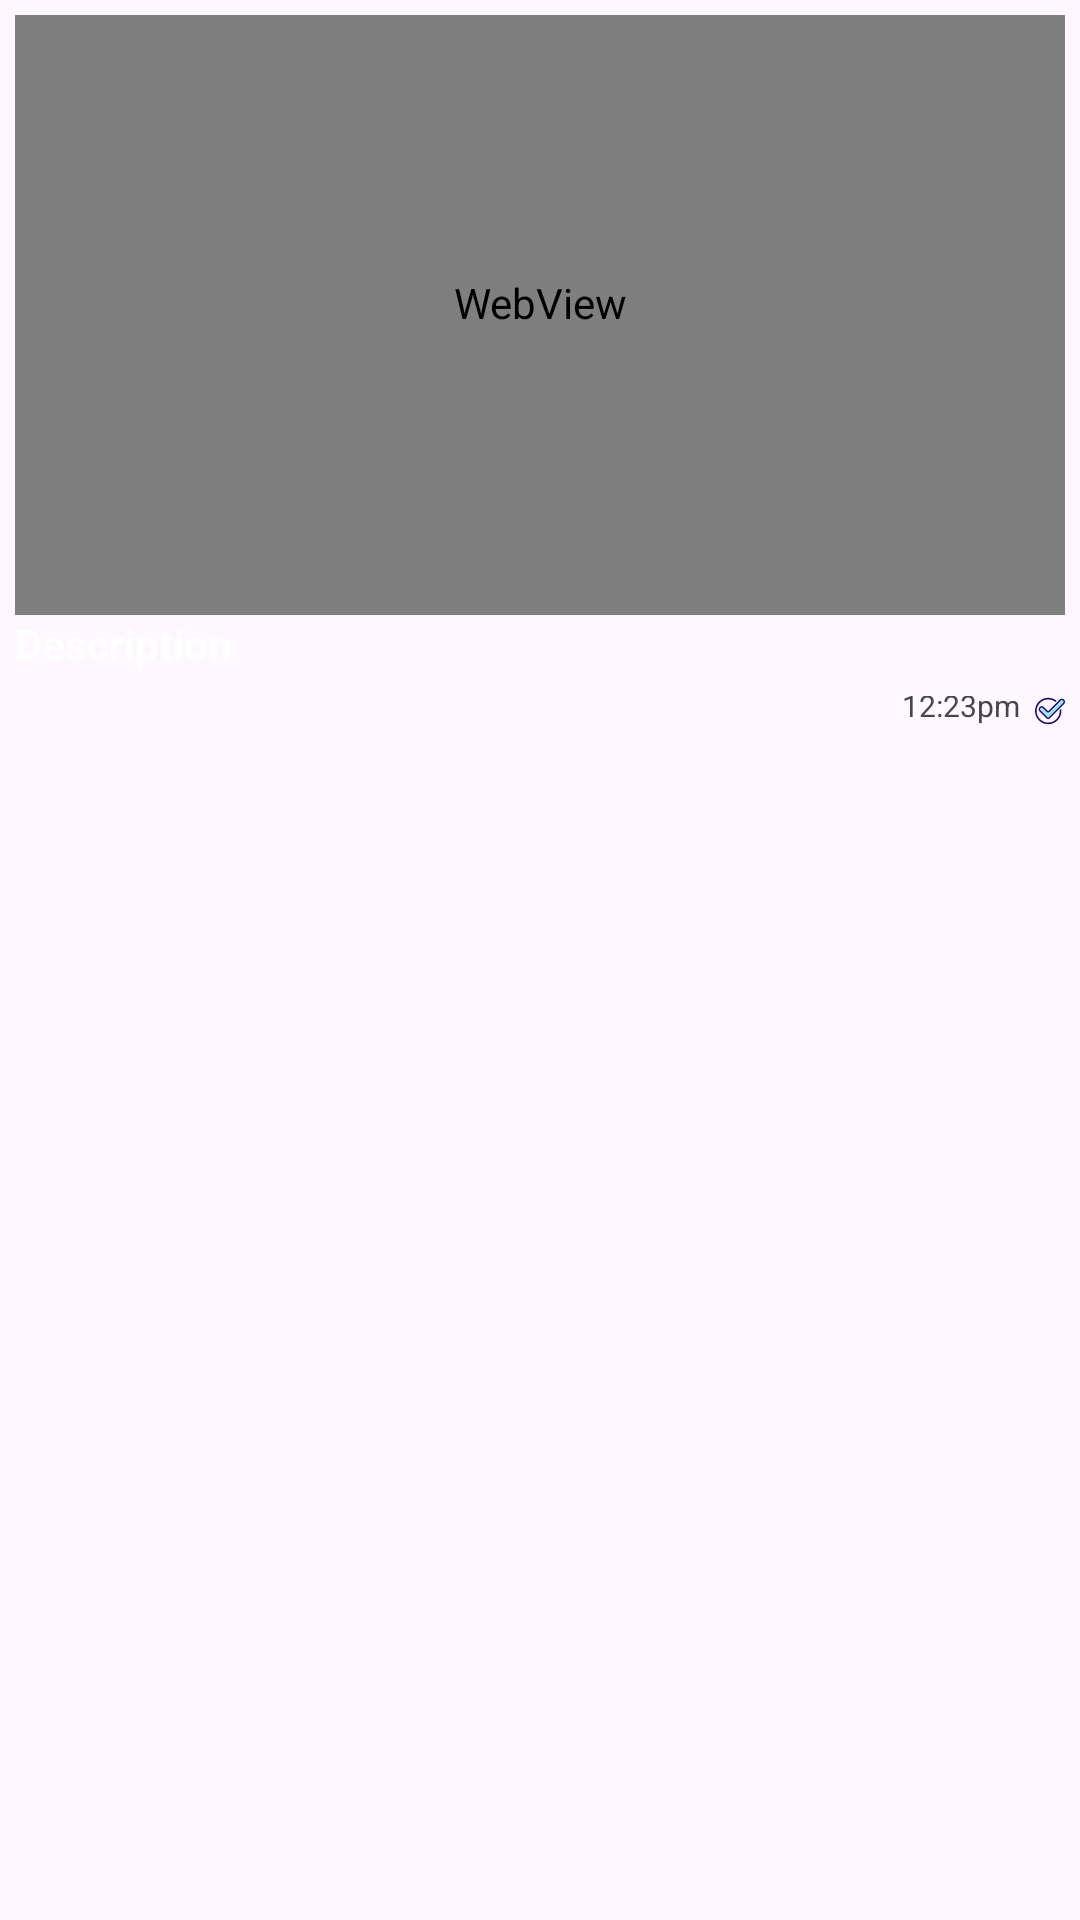

Icon click points for this 1080x1920 phone screenshot, format [x,y]:
Status: [1050,711]
